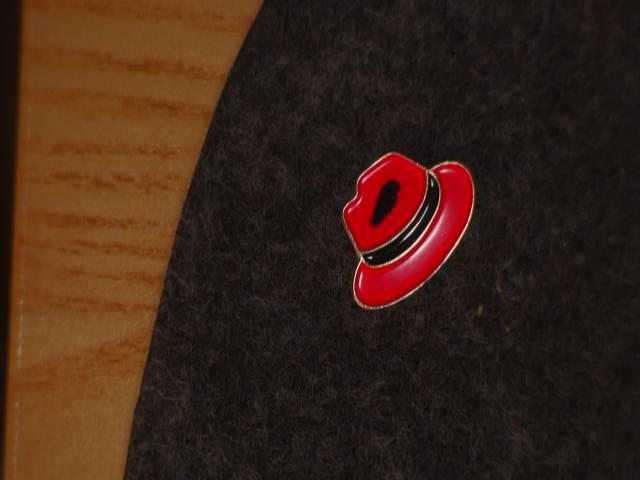Red-Hat: (317, 126, 528, 351)
Scratch: (361, 166, 411, 241)
